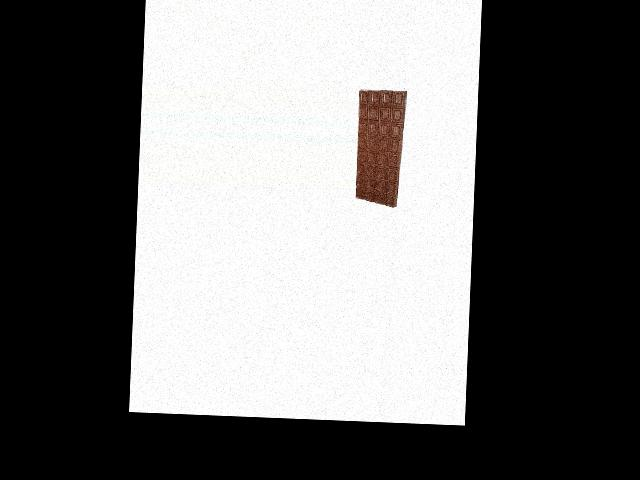chocolate: (354, 87, 405, 209)
